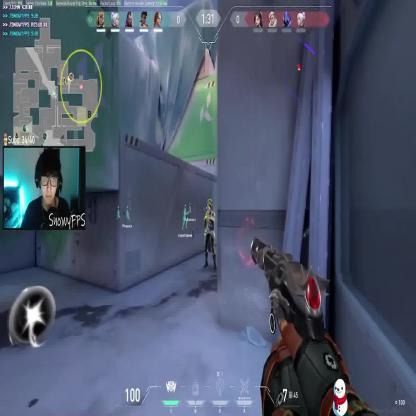enemy: (202, 198, 216, 270)
enemy_head: (207, 198, 212, 212)
